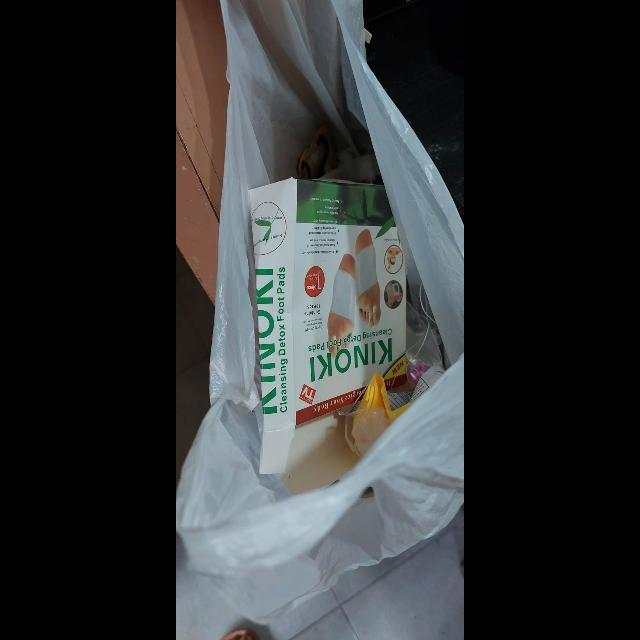cardboard: (248, 178, 412, 497)
